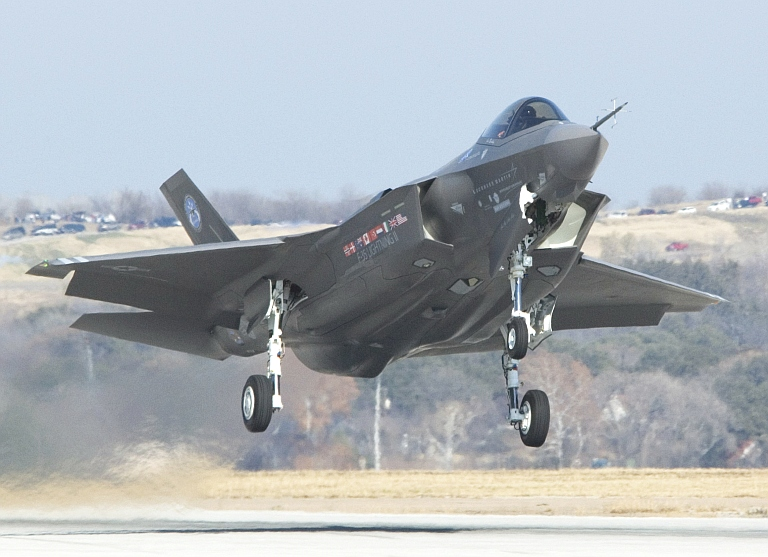F-35 Lightning: (16, 74, 738, 490)
